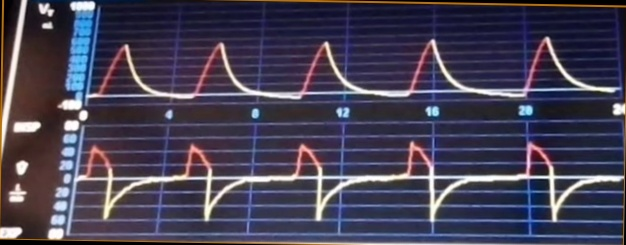Normal Flow: (80, 137, 621, 228)
Normal Volume: (89, 31, 618, 102)
